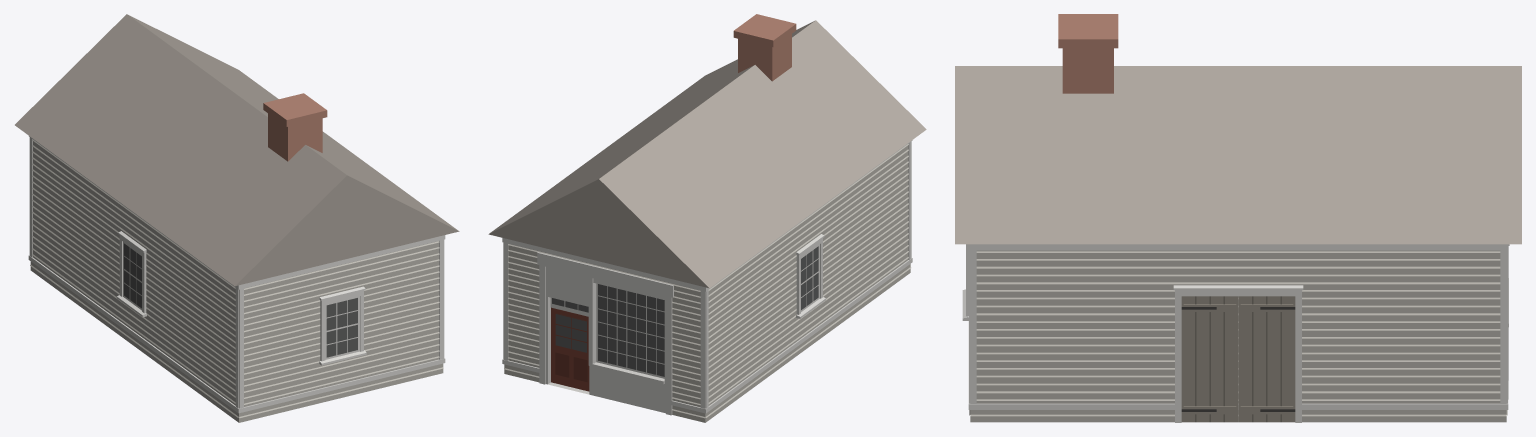
Rendered from recon_1835_core_c1_012__inferred_1835.glb.
The picture shows the model from 3 angles, left to right: view 1: azimuth 30°, elevation 25°; view 2: azimuth 150°, elevation 25°; view 3: azimuth 270°, elevation 25°; orthographic projection. The views are drawn at different scales.
Parts seen in each view (by area): view 1: recon_1835_core_c1_012__inferred_1835; view 2: recon_1835_core_c1_012__inferred_1835; view 3: recon_1835_core_c1_012__inferred_1835.
Boxes of the visible parts, box(x1,y1,x2,y2) form: recon_1835_core_c1_012__inferred_1835: box(15, 14, 459, 422); recon_1835_core_c1_012__inferred_1835: box(488, 14, 926, 422); recon_1835_core_c1_012__inferred_1835: box(955, 14, 1521, 422).
Size of the model in its own units: 5.45 by 5.97 by 9.24.
